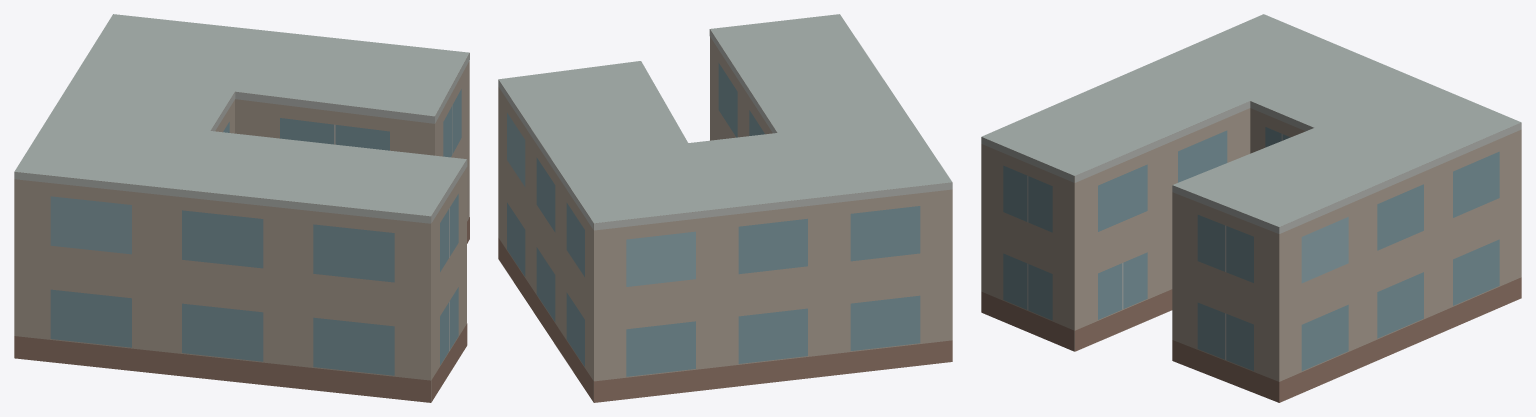
Rendered from survey-upis-32909739.glb.
The picture shows the model from 3 angles, left to right: view 1: azimuth 30°, elevation 25°; view 2: azimuth 150°, elevation 25°; view 3: azimuth 270°, elevation 25°; orthographic projection. The views are drawn at different scales.
Visible parts, largest first — view 1: survey-upis-32909739.tmp; view 2: survey-upis-32909739.tmp; view 3: survey-upis-32909739.tmp.
Boxes of the visible parts, bbox=[...] form: survey-upis-32909739.tmp: bbox=[14, 14, 469, 402]; survey-upis-32909739.tmp: bbox=[498, 14, 952, 402]; survey-upis-32909739.tmp: bbox=[981, 14, 1521, 402].
Size of the model in its own units: 15.88 by 6.1 by 17.01.
